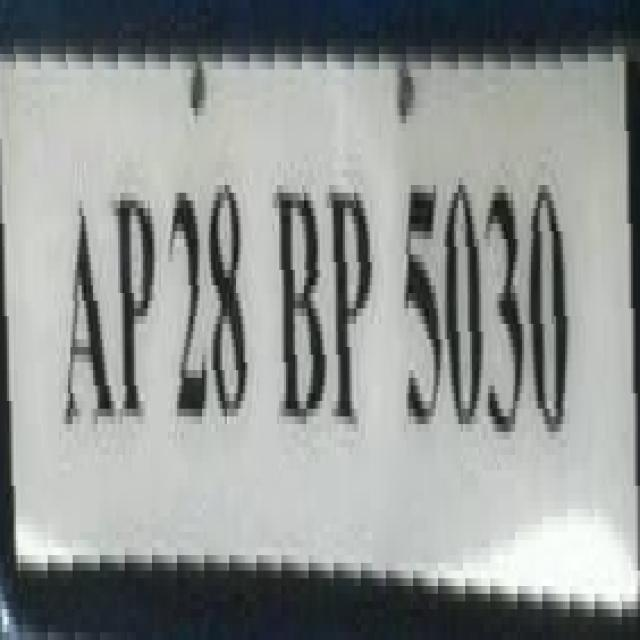license_plate: (22, 7, 640, 578)
